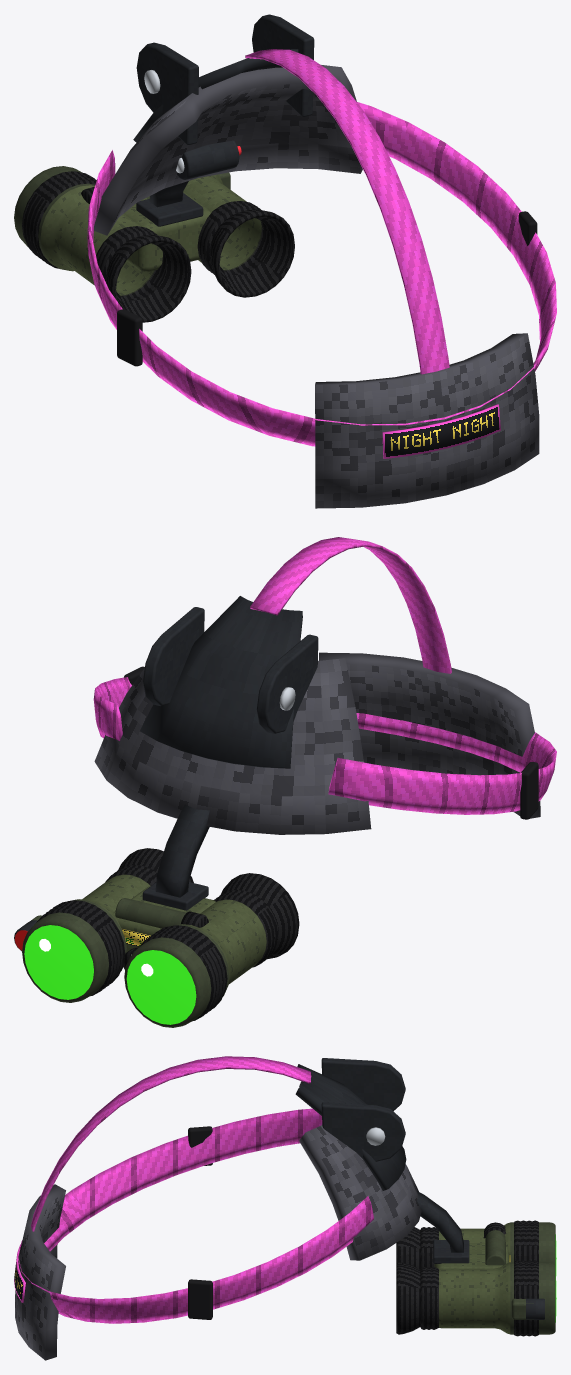
The model's file is x_nvg.glb.
3 views of the same model, one above another, from view 1: azimuth 30°, elevation 25°; view 2: azimuth 150°, elevation 25°; view 3: azimuth 270°, elevation 25° (orthographic). The views are drawn at different scales.
Parts seen in each view (by area): view 1: strap, nv_goggles; view 2: strap, nv_goggles, lensL, lensR; view 3: strap, nv_goggles.
Part boxes in pixels (x1,y1,x2,y2): strap: (87, 14, 556, 508); nv_goggles: (14, 140, 294, 322); strap: (93, 537, 556, 834); nv_goggles: (14, 804, 299, 1027); lensL: (126, 950, 196, 1024); lensR: (24, 925, 93, 999); strap: (14, 1056, 421, 1360); nv_goggles: (396, 1191, 556, 1336).
Bounding box in the file's own units: 0.2697 × 0.2046 × 0.3918.
Materials: 16 (9 with a texture image).
